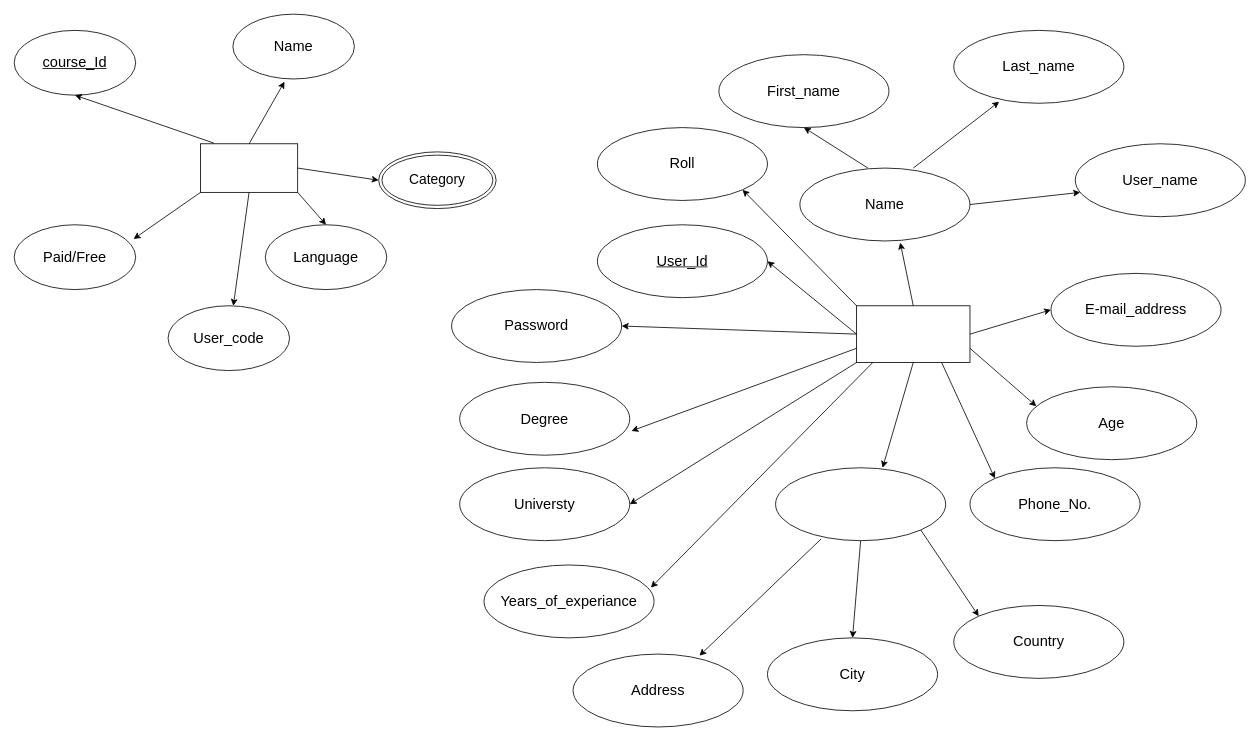
The diagram is 1260 pixels wide and 741 high, and some of its shapes have lost their labels. Each missing label, with the centre of its shape:
"Courses" goes at (x=249, y=167).
"Nationality" goes at (x=860, y=504).
"User" goes at (x=913, y=333).
